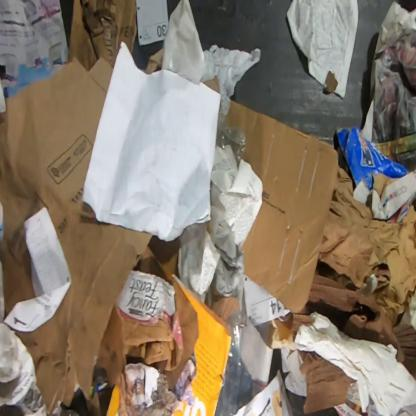cardboard: (0, 56, 153, 416), (226, 101, 339, 314), (98, 235, 200, 390), (336, 125, 415, 222), (67, 0, 138, 71), (146, 48, 164, 75)
rigid_plastic: (213, 284, 254, 415), (215, 122, 246, 169)
